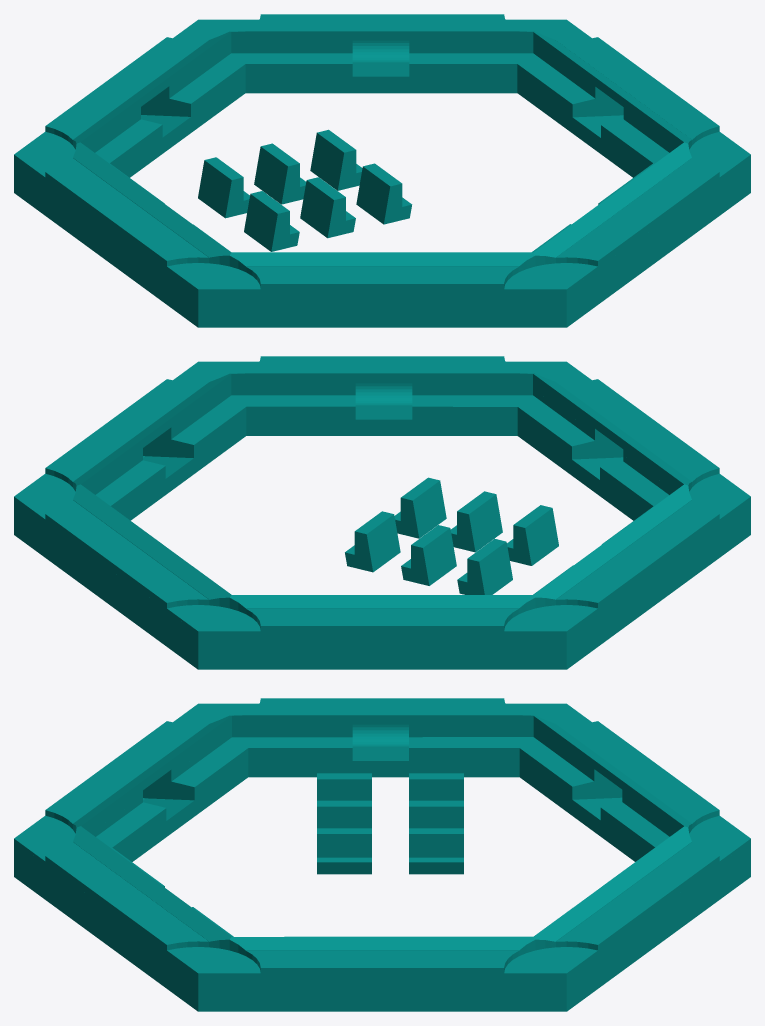
File: base_water.glb
The picture shows the model from 3 angles, top to bottom: view 1: azimuth 30°, elevation 25°; view 2: azimuth 150°, elevation 25°; view 3: azimuth 270°, elevation 25°; orthographic projection.
Parts seen in each view (by area): view 1: base_water; view 2: base_water; view 3: base_water.
Boxes of the visible parts, left/top/right/bottom form: base_water: left=14, top=14, right=750, bottom=327; base_water: left=14, top=356, right=750, bottom=669; base_water: left=14, top=698, right=750, bottom=1011.
Size of the model in its own units: 79 by 6.95 by 91.22.
